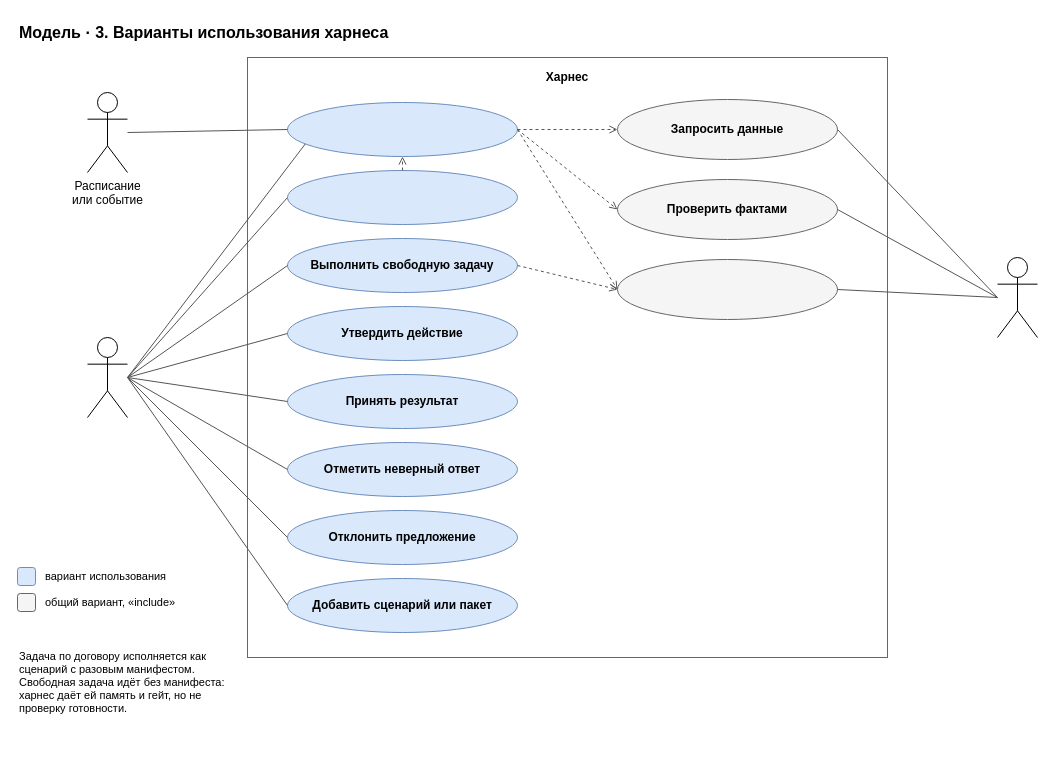
Some shapes in this 1060 by 759 pixel diagram are drawn without their labels. The centre of each missing label's shape, as x and y in pixels:
"Выполнить задачу по договору" goes at (x=402, y=197).
"Выполнить сценарий" goes at (x=402, y=129).
"Пройти гейт" goes at (x=727, y=289).
"Системы" goes at (x=1017, y=297).
"Человек" goes at (x=107, y=377).
